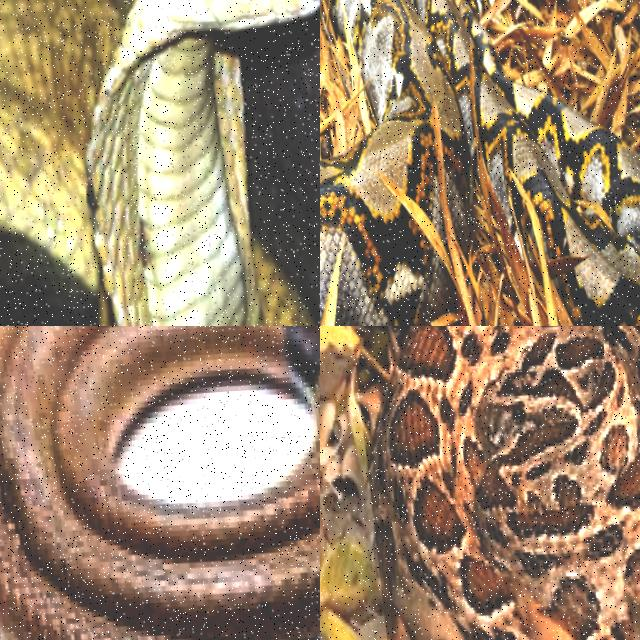Calliophis maculiceps: (0, 326, 319, 639)
Daboia siamensis: (368, 326, 639, 639)
Malayopython reticulatus: (320, 0, 639, 325)
Naja kaouthia: (0, 0, 319, 325)
snake: (0, 0, 319, 325), (320, 0, 639, 325), (0, 326, 319, 639), (368, 326, 639, 639)
